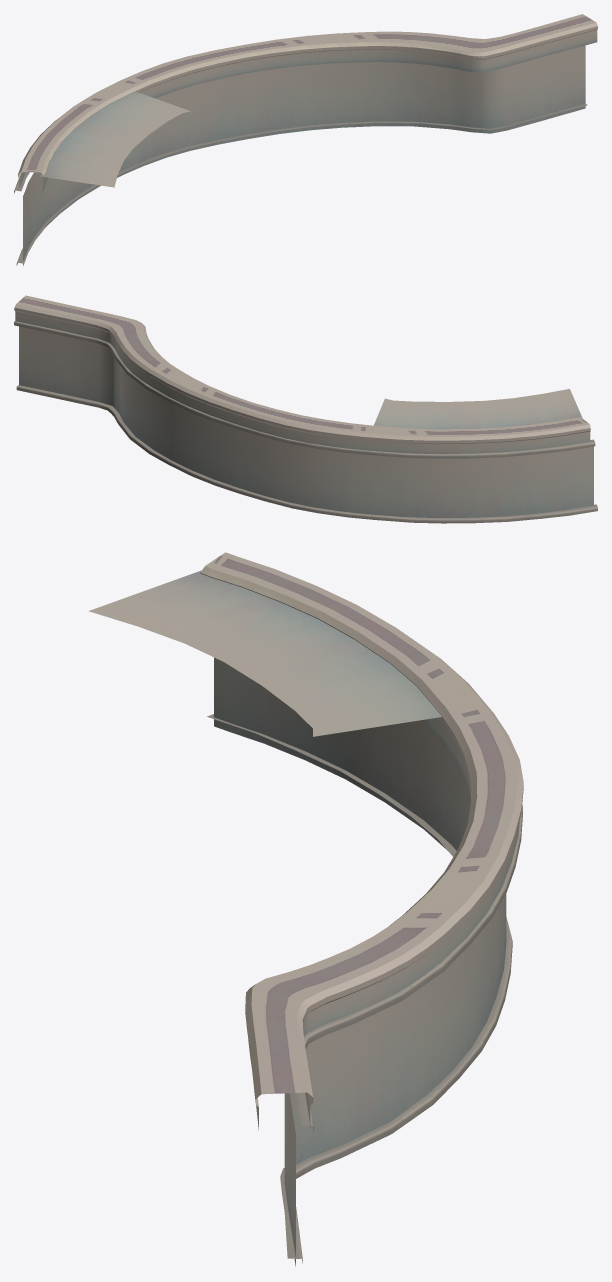
Rendered from pref_sm_beach_techborn01_e_mirror02_lv3.fbx.
The picture shows the model from 3 angles, top to bottom: view 1: azimuth 30°, elevation 25°; view 2: azimuth 150°, elevation 25°; view 3: azimuth 270°, elevation 25°; orthographic projection. The views are drawn at different scales.
Parts seen in each view (by area): view 1: pref_sm_beach_techborn01_e_mirror02_lv3; view 2: pref_sm_beach_techborn01_e_mirror02_lv3; view 3: pref_sm_beach_techborn01_e_mirror02_lv3.
Boxes of the visible parts, x1,y1,x2,y2 form: pref_sm_beach_techborn01_e_mirror02_lv3: (14,14,597,265); pref_sm_beach_techborn01_e_mirror02_lv3: (14,295,597,523); pref_sm_beach_techborn01_e_mirror02_lv3: (88,552,523,1266).
Bounding box in the file's own units: 21.54 × 3.21 × 7.23.
1 material, 1 textured.
